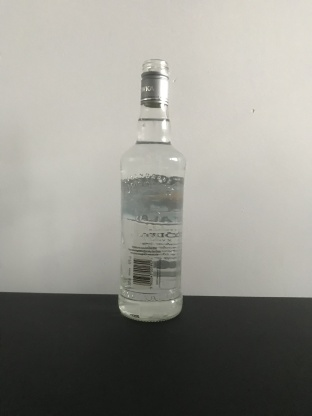nakretka: (138, 56, 171, 109)
